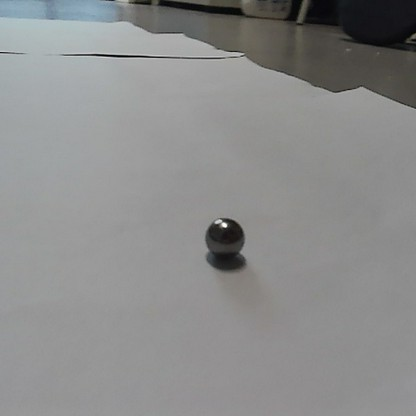ironball: (204, 214, 246, 260)
